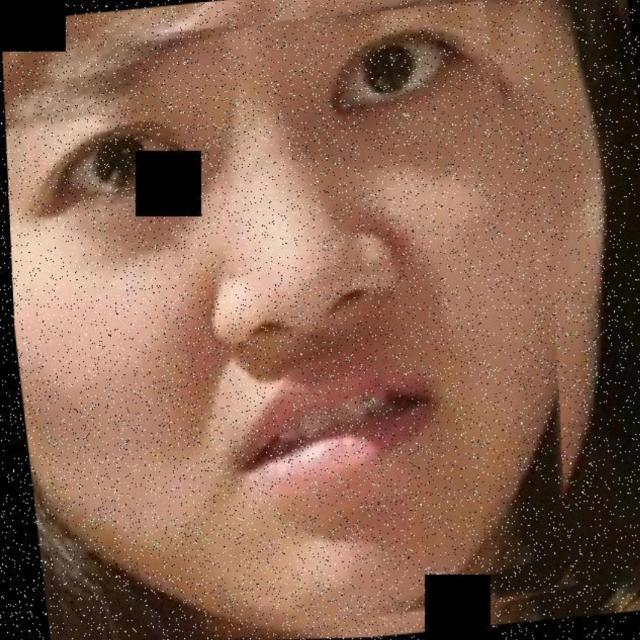Disgust: (14, 13, 640, 640)
